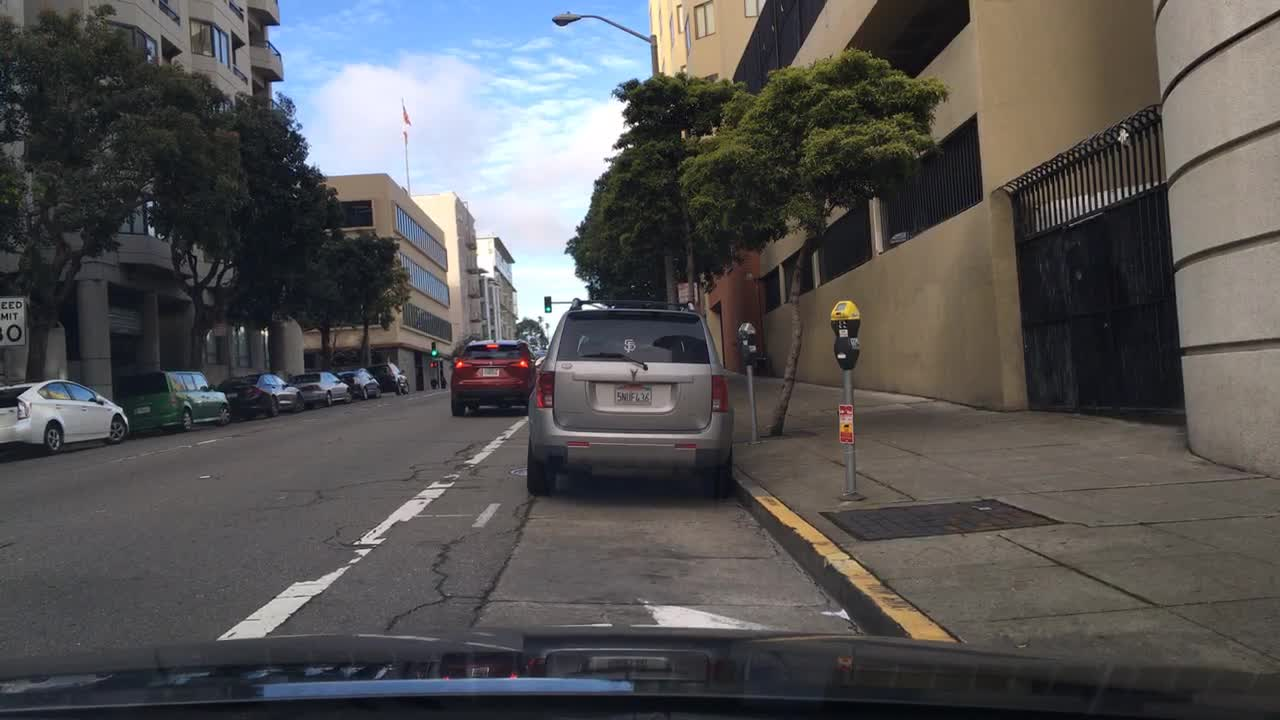car: (527, 297, 736, 498), (1, 377, 129, 455), (107, 368, 232, 435), (449, 337, 538, 416), (214, 372, 307, 417), (286, 370, 352, 408), (333, 364, 381, 400), (368, 359, 410, 396), (530, 349, 547, 360)
traffic light: (429, 340, 439, 358), (542, 294, 552, 312)
traffic sign: (0, 294, 30, 348)
